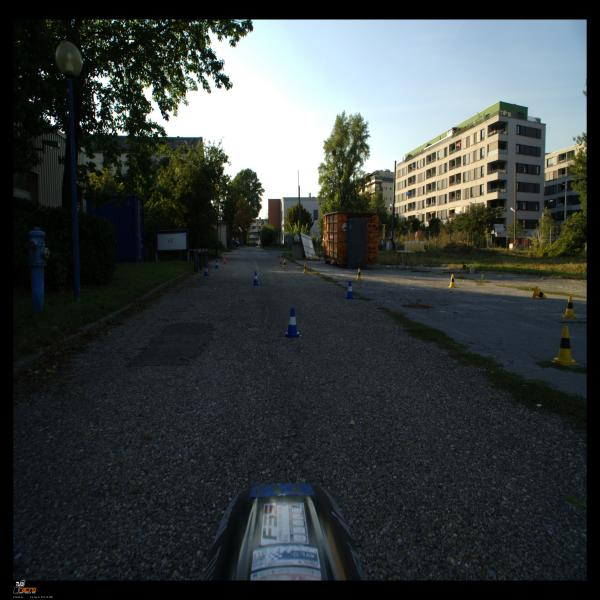blue_cone: (283, 308, 302, 338), (344, 281, 356, 299), (252, 271, 260, 285), (203, 265, 209, 276), (214, 260, 219, 268)
orange_cone: (222, 256, 226, 264), (279, 256, 282, 264)
yellow_cone: (550, 326, 580, 366), (561, 295, 578, 319), (532, 286, 547, 299), (448, 274, 456, 288), (355, 268, 362, 281), (302, 263, 308, 274), (282, 260, 287, 268)
